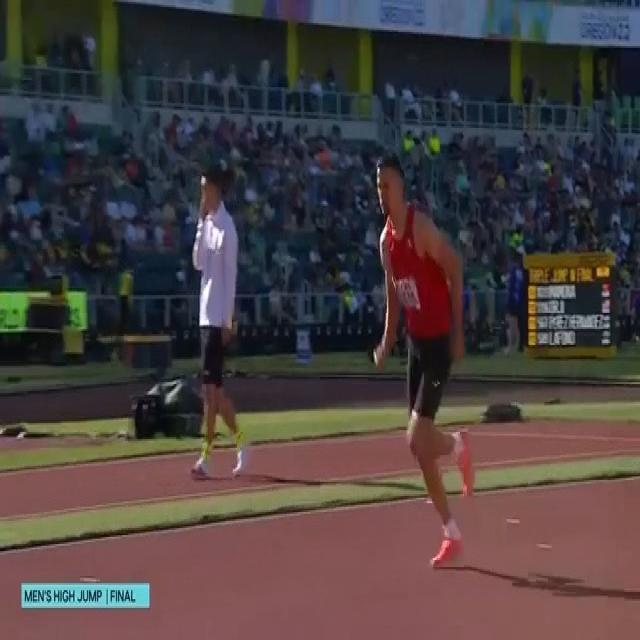run: (368, 154, 477, 580)
